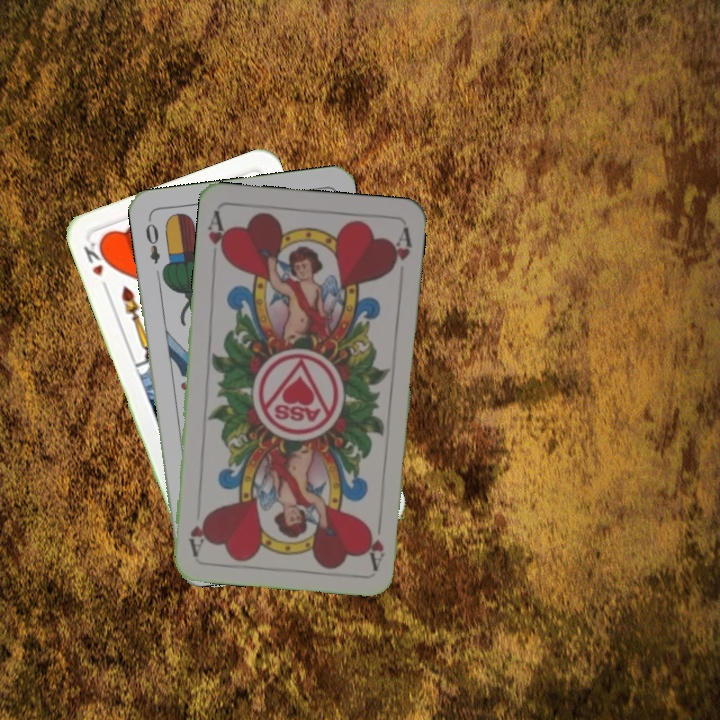EO: (141, 214, 163, 266)
HA: (203, 207, 231, 264), (362, 512, 386, 571)
HK: (79, 237, 112, 294)
